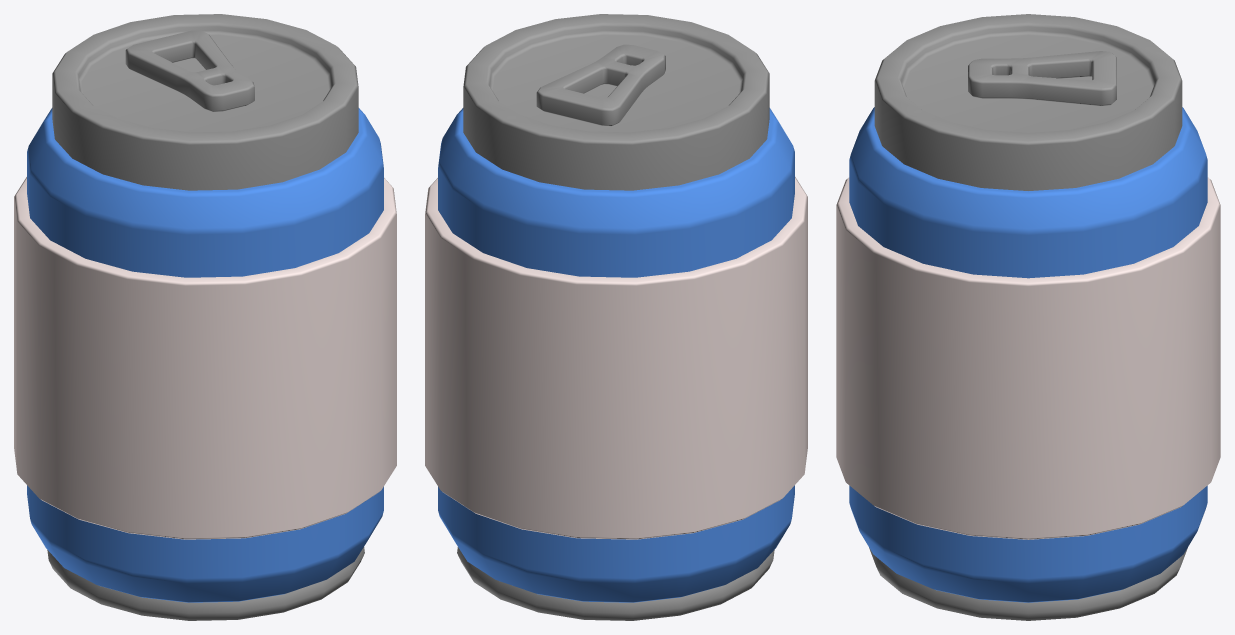
The model's file is Soda_Can_2.fbx.
3 views of the same model, side by side, from view 1: azimuth 30°, elevation 25°; view 2: azimuth 150°, elevation 25°; view 3: azimuth 270°, elevation 25° (orthographic).
Parts seen in each view (by area): view 1: Soda_Can_2; view 2: Soda_Can_2; view 3: Soda_Can_2.
Boxes of the visible parts, x1,y1,x2,y2 form: Soda_Can_2: (14,14,396,620); Soda_Can_2: (425,14,807,620); Soda_Can_2: (836,14,1220,620).
Bounding box in the file's own units: 10.41 × 14.62 × 10.41.
